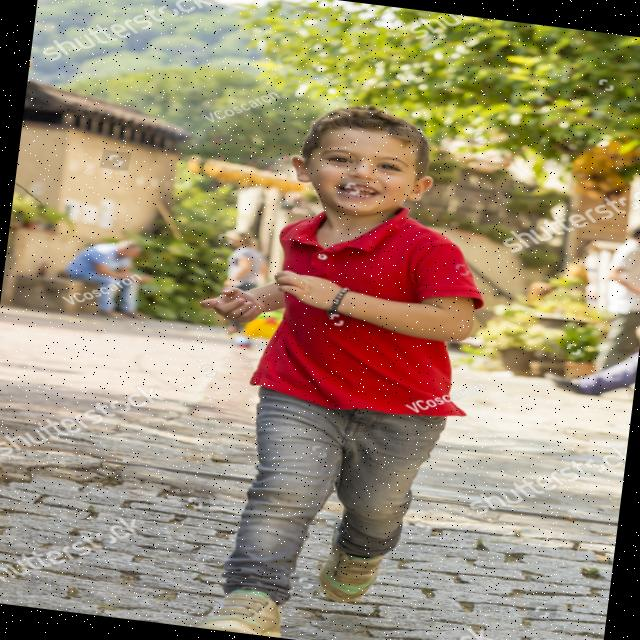Person: (155, 87, 506, 640)
